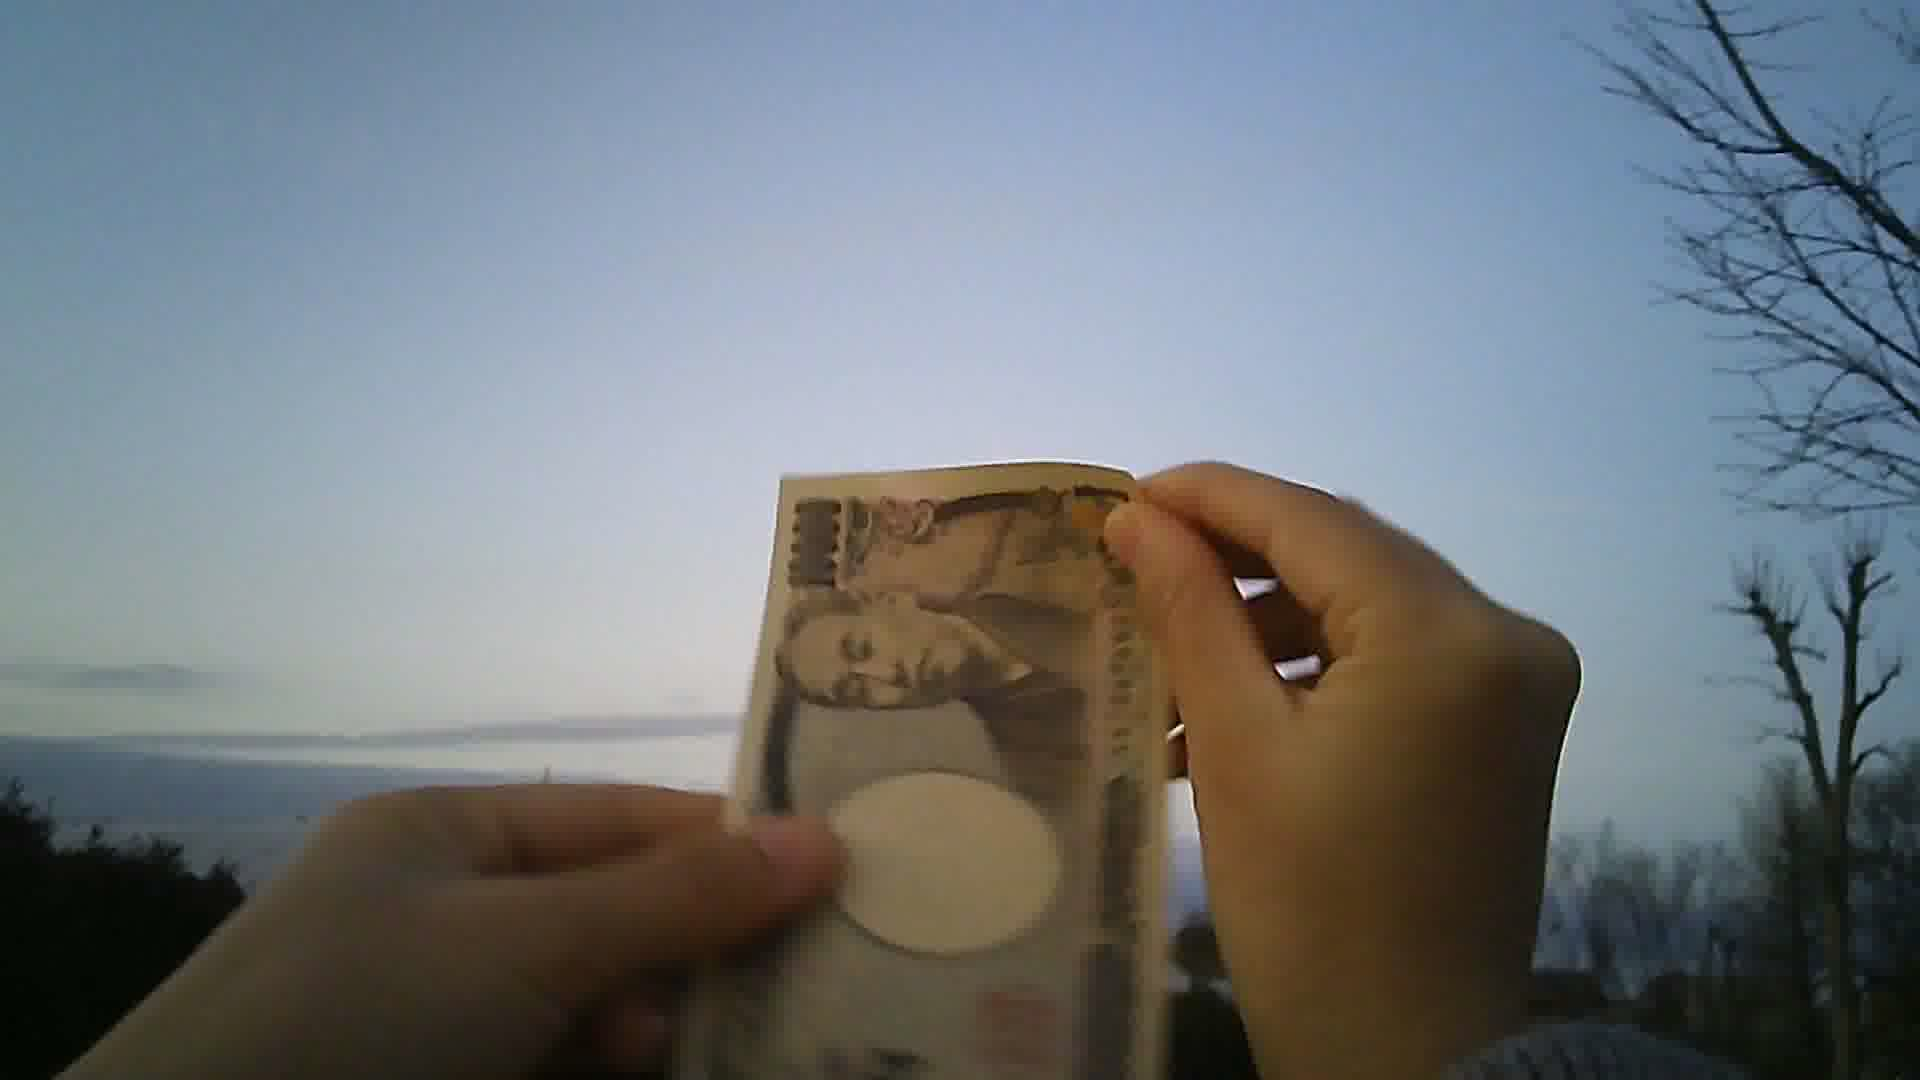10,000 Yen: (712, 456, 1171, 1073)
